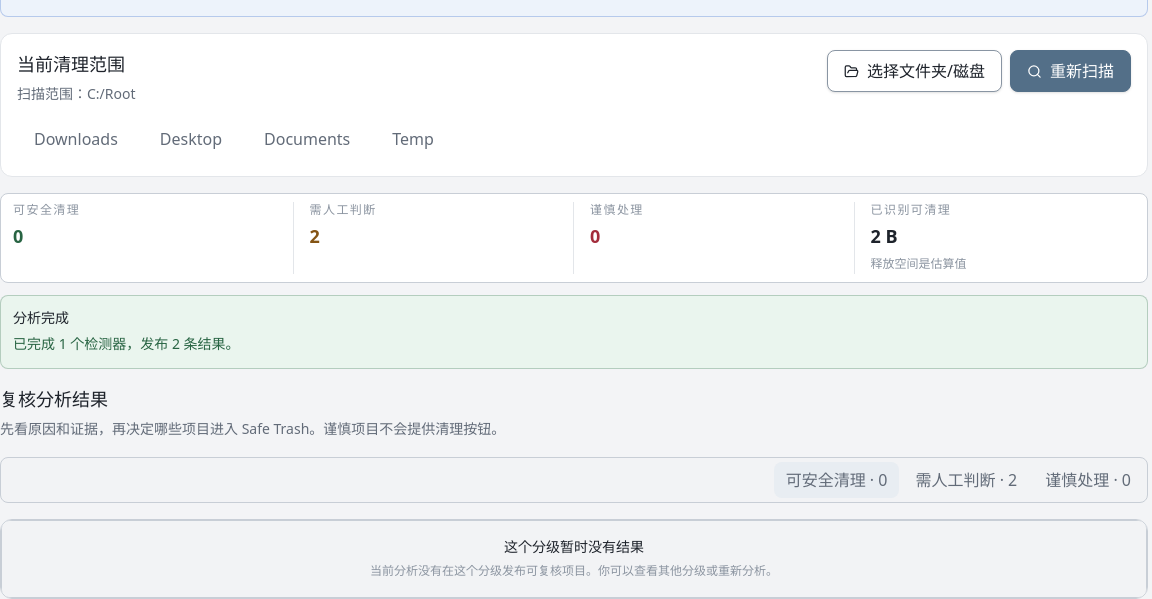
Scenario: Cleanup independent review behavior › keeps mixed or incomplete cleanup previews out of Safe Trash mutation
(page scrolled)
Click the button "需人工判断 · 2".
click(966, 480)  # box [904,462,1029,498]
(page scrolled)
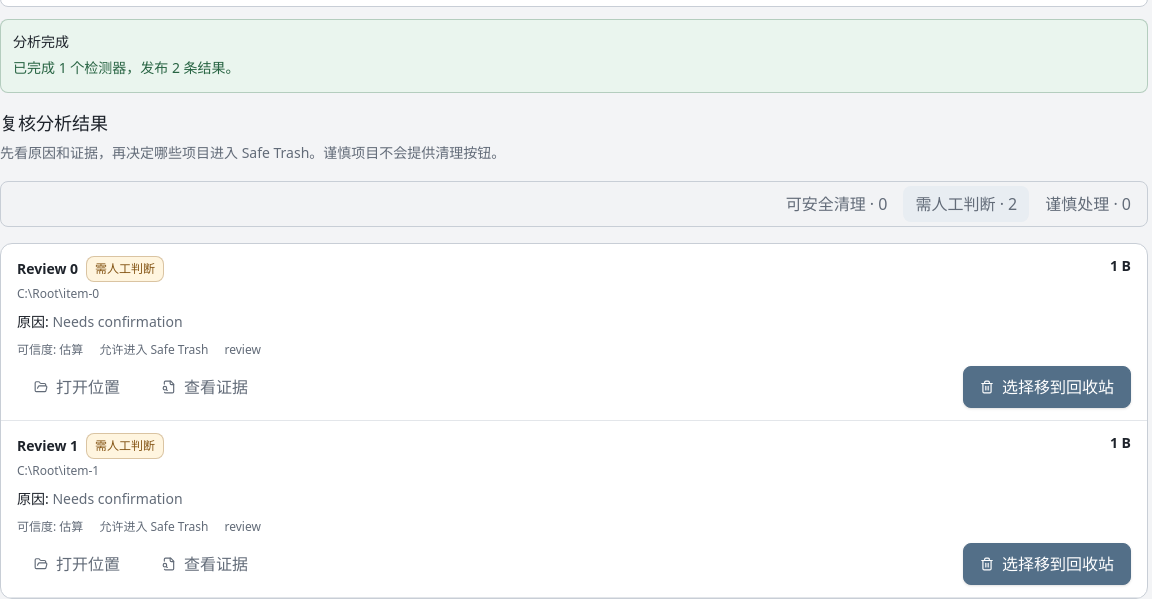
Click the 1st button "选择移到回收站".
click(1047, 387)  # box [963,366,1131,408]
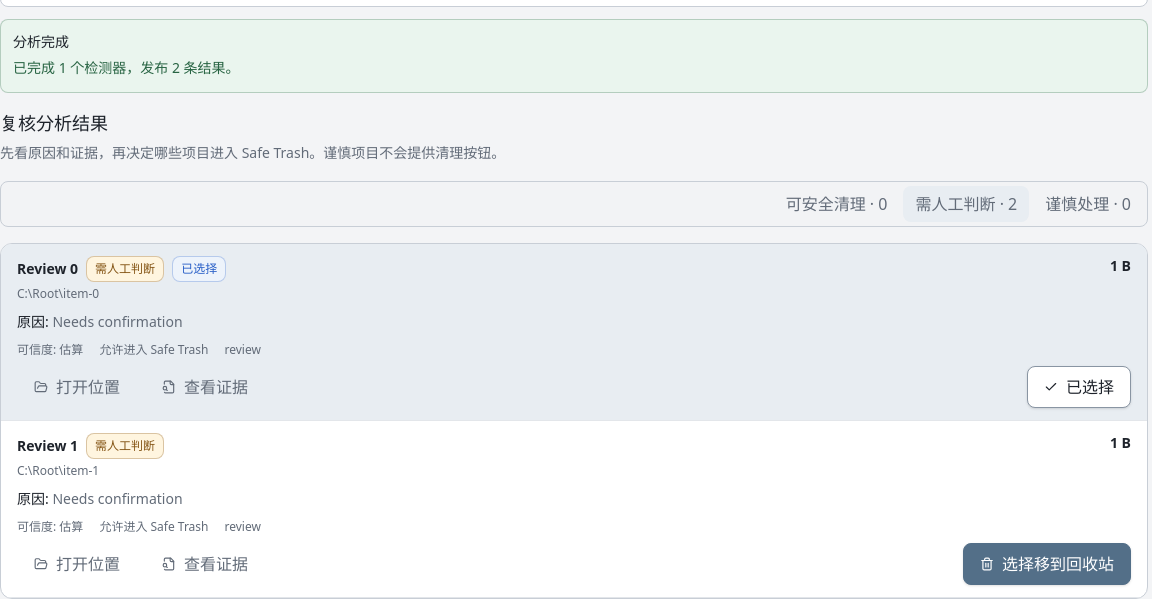
Click the button "选择移到回收站".
click(1047, 564)  # box [963,543,1131,585]
(page scrolled)
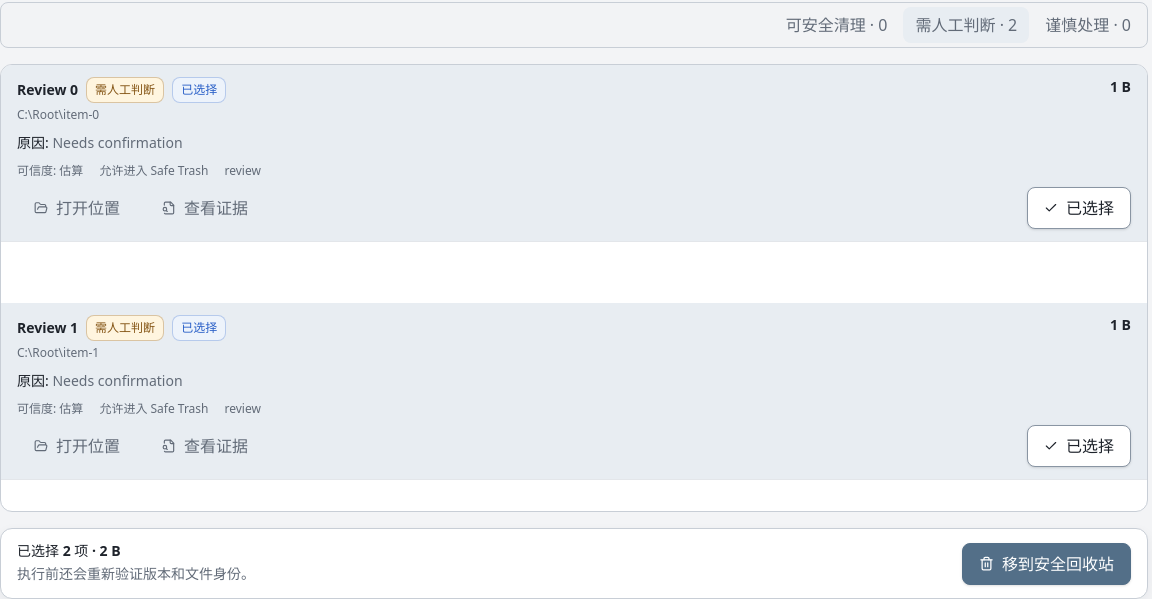
Click the button "移到安全回收站".
click(1046, 564)  # box [962,543,1131,585]
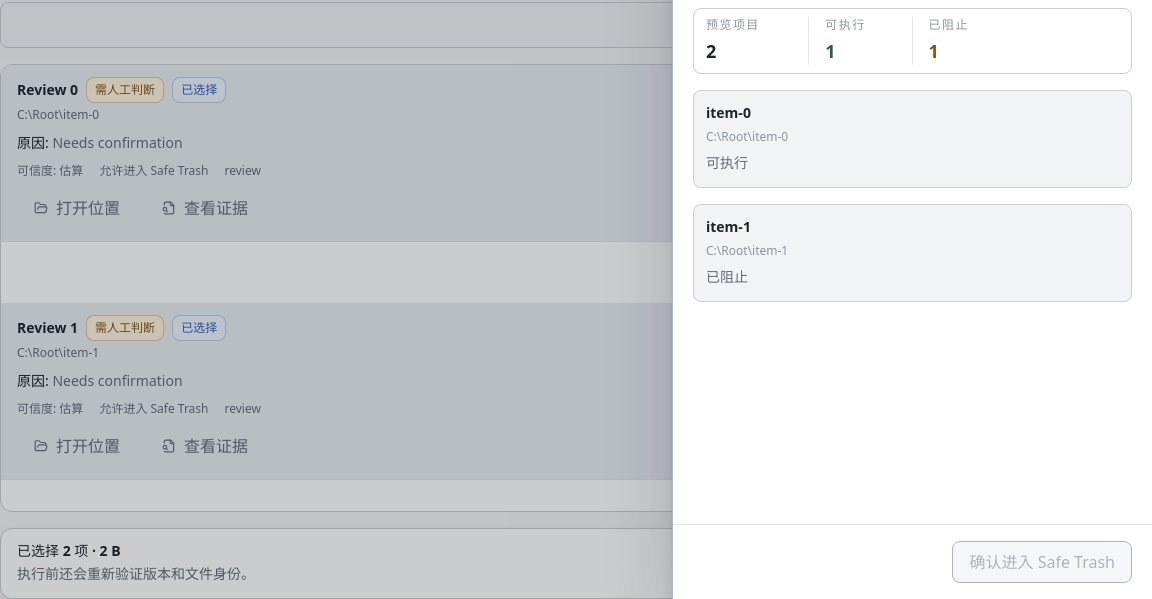
Check: the button "确认进入 Safe Trash" is disabled, box [952,541,1132,583]
